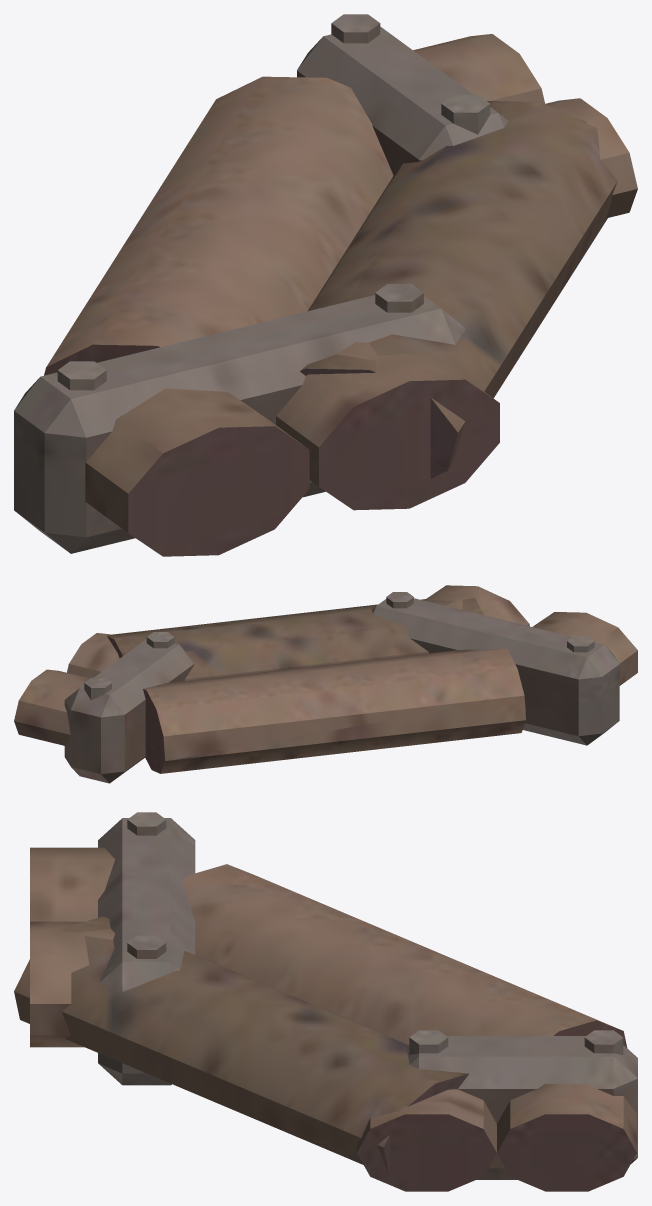
File: heat-pipe-corner-down-right.glb
3 views of the same model, one above another, from view 1: azimuth 30°, elevation 25°; view 2: azimuth 150°, elevation 25°; view 3: azimuth 270°, elevation 25° (orthographic). The views are drawn at different scales.
Visible parts, largest first — view 1: body; view 2: body; view 3: body.
Boxes of the visible parts, x1,y1,x2,y2 form: body: (14,14,637,556); body: (14,585,637,783); body: (14,812,637,1191).
Bounding box in the file's own units: 0.7065 × 0.15 × 0.6415.
Materials: 1 (1 with a texture image).
